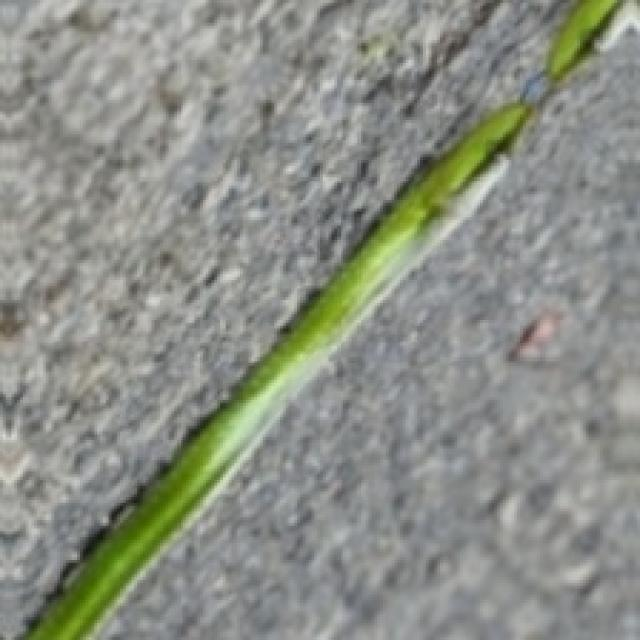red-tailed green ratsnake: (25, 104, 532, 639), (545, 0, 618, 82)
